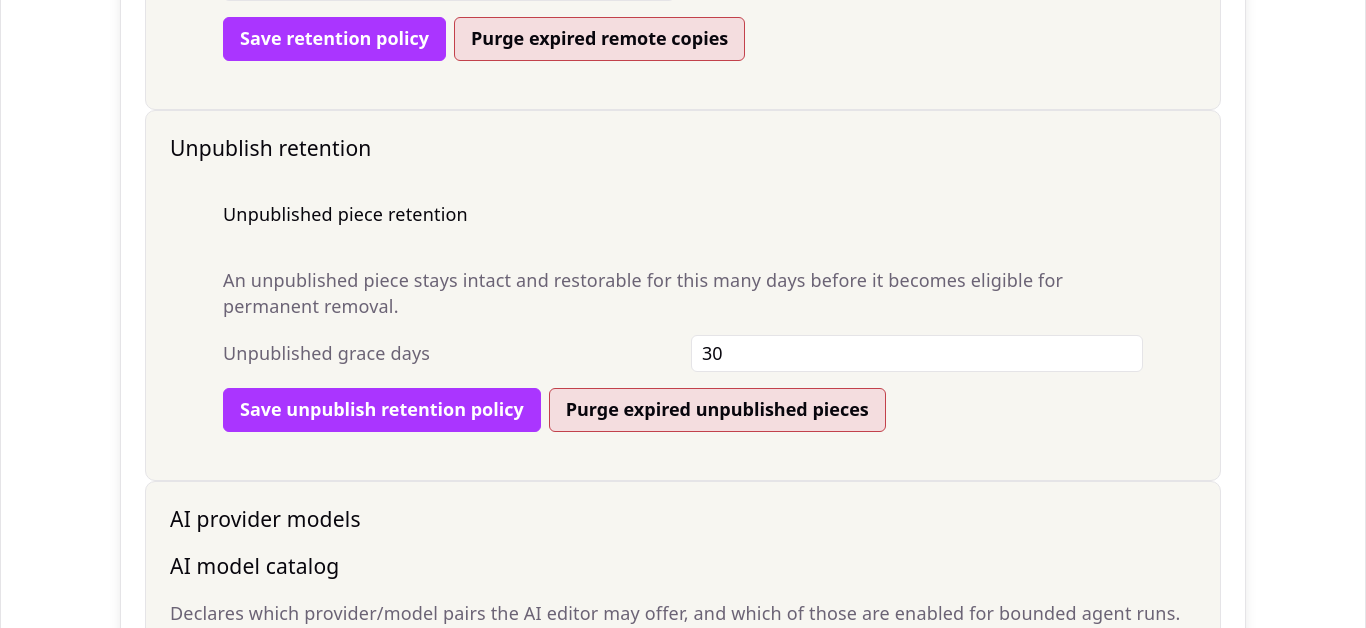
Test: Unpublish retention settings (#944) › saves the unpublished grace-days window
(page scrolled)
Replace the text in the number field labelled "Unpublished grace days" with "14". click: (917, 354)
box: [691,335,1143,372]
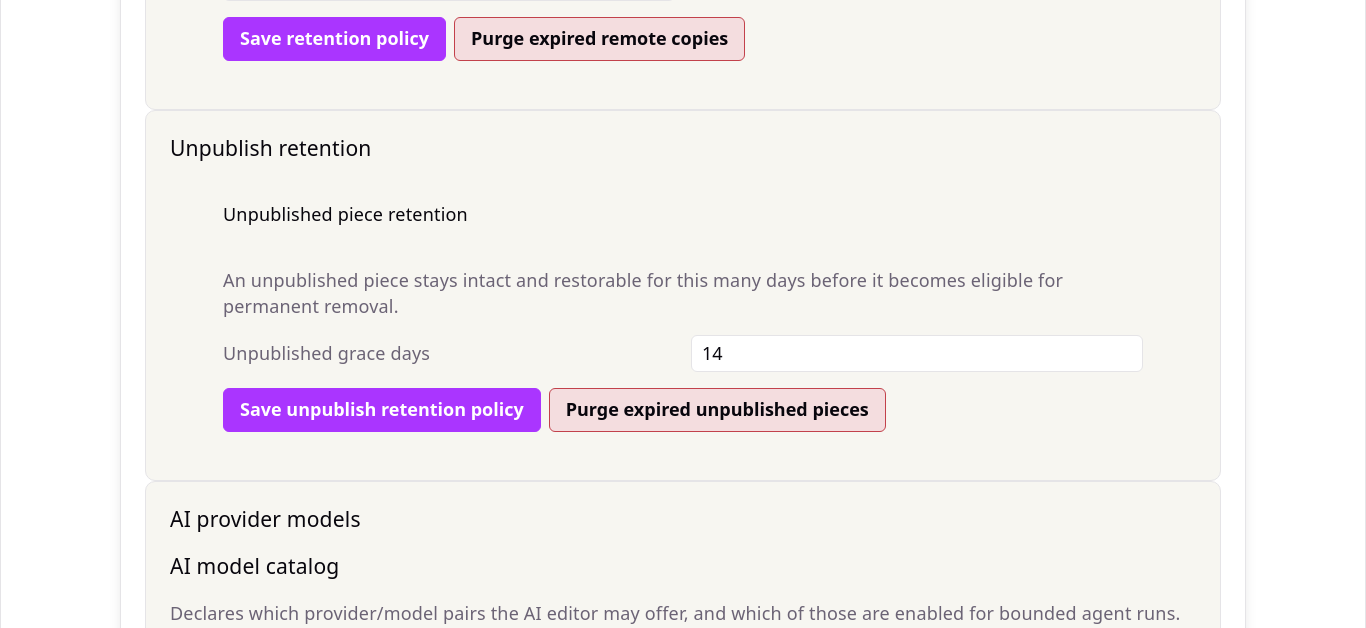
Click the button "Save unpublish retention policy". click: (382, 410)
box: [223,388,541,432]
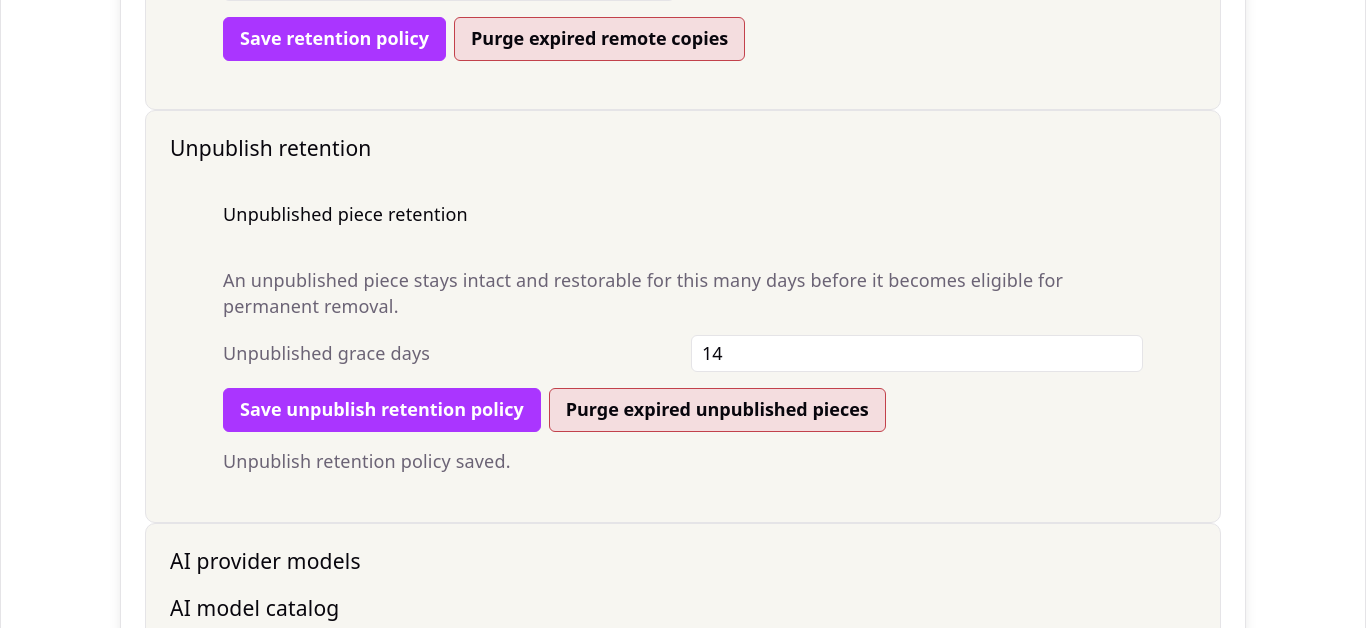
Now the text "Unpublish retention policy saved." is shown, box [223,449,511,473]
